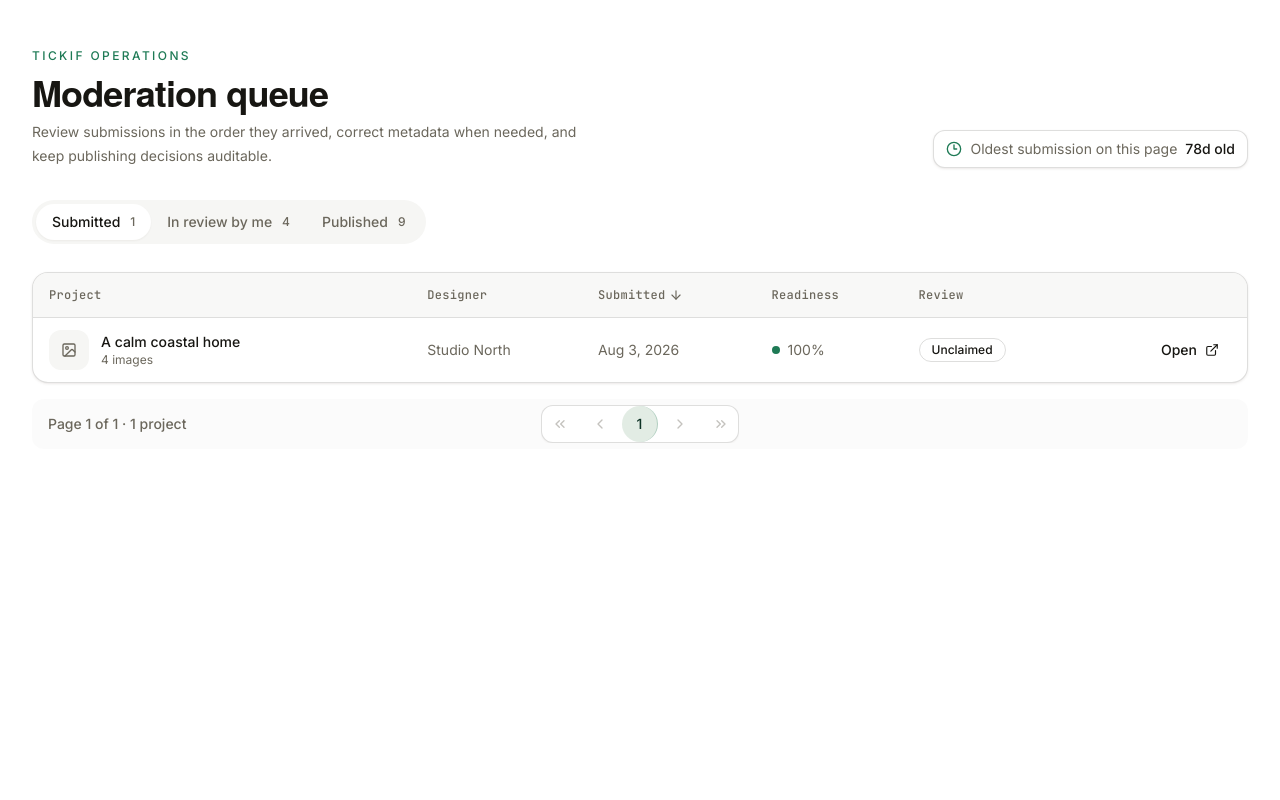
Test: AdminModerationQueue › distinguishes pending review content from the approved live metadata
This screenshot has width=1280, height=800.
Click the button with aria-label "open review for a calm coastal home": {"x": 1190, "y": 350} [1149,332,1231,368]
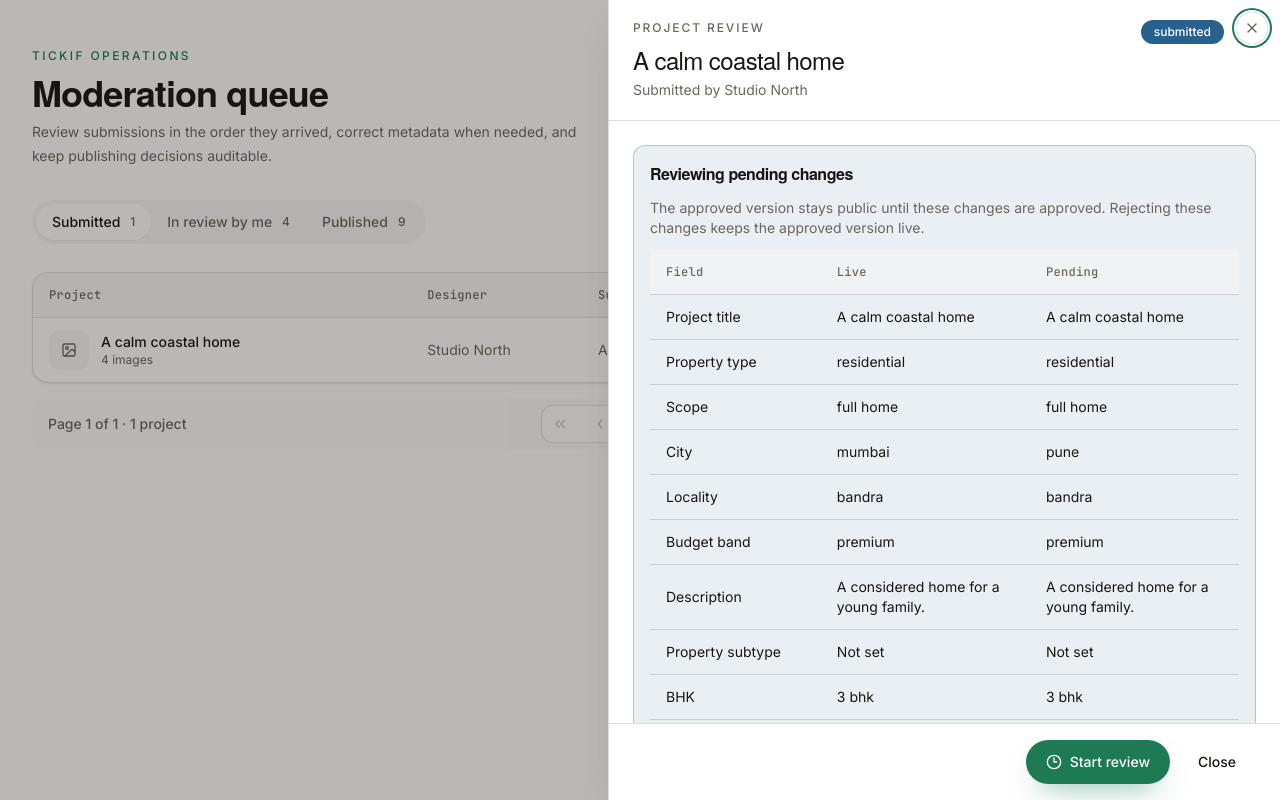
expect the heading "Reviewing pending changes" is shown: met, box [650,162,853,185]
expect the text "The approved version stays public until these changes are approved" is shown: met, box [650,199,1212,236]
expect the text "mumbai" is shown: met, box [821,429,1030,474]
